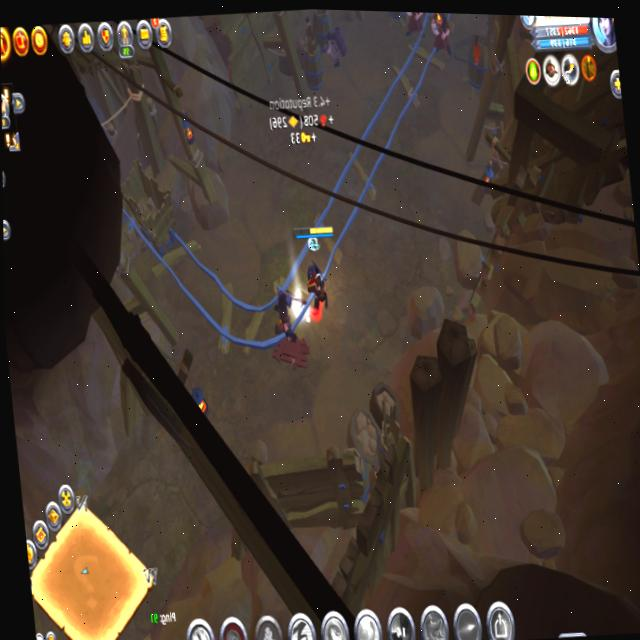ore: (263, 279, 318, 372), (427, 13, 456, 67), (322, 22, 352, 72), (399, 12, 428, 41)
red: (288, 220, 345, 328)
stone: (289, 284, 315, 328)
